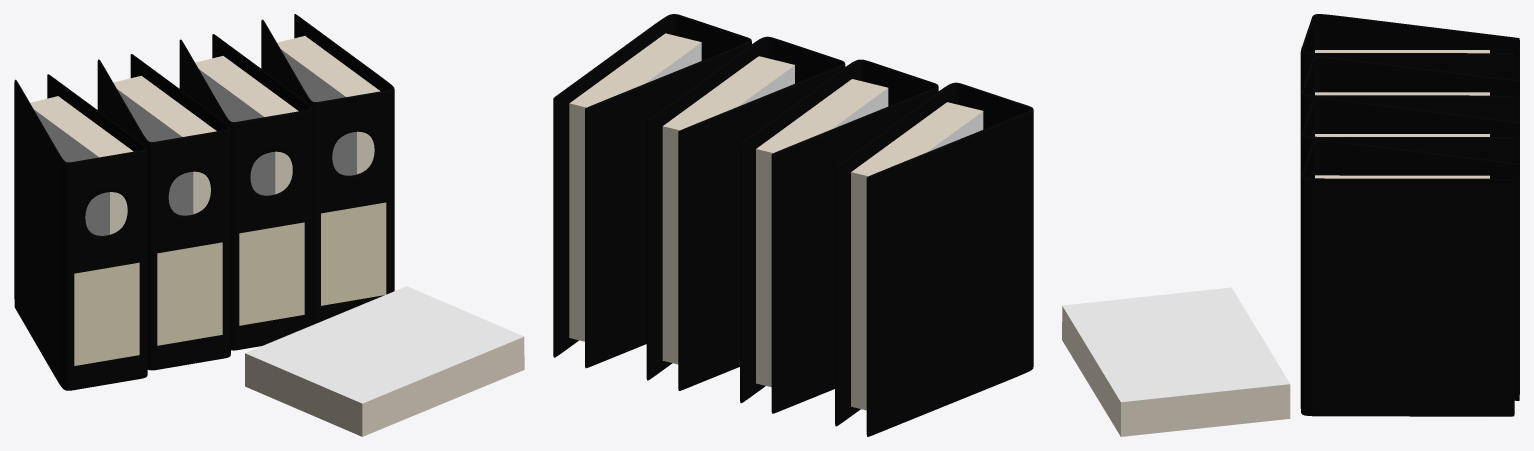
File: Folders.fbx
3 renders of one model, left to right at view 1: azimuth 30°, elevation 25°; view 2: azimuth 150°, elevation 25°; view 3: azimuth 270°, elevation 25°, orthographic. The views are drawn at different scales.
Visible parts, largest first — view 1: folder.003, papers.004, folder, folder.001, folder.002, papers.002, papers.003, papers.001, papers; view 2: folder.003, folder, folder.001, folder.002, papers.001, papers.003, papers, papers.002; view 3: folder.002, papers.004, folder, folder.003, folder.001, papers.002, papers, papers.003, papers.001.
Part boxes in pixels (x1=…): folder.003: x1=14, y1=74, x2=147, y2=390; papers.004: x1=245, y1=286, x2=524, y2=436; folder: x1=97, y1=54, x2=230, y2=370; folder.001: x1=179, y1=34, x2=312, y2=350; folder.002: x1=261, y1=14, x2=394, y2=324; papers.002: x1=277, y1=36, x2=380, y2=175; papers.003: x1=30, y1=96, x2=133, y2=235; papers.001: x1=195, y1=56, x2=298, y2=195; papers: x1=113, y1=75, x2=216, y2=215; folder.003: x1=835, y1=82, x2=1033, y2=436; folder: x1=740, y1=59, x2=938, y2=413; folder.001: x1=646, y1=36, x2=845, y2=390; folder.002: x1=553, y1=14, x2=751, y2=368; papers.001: x1=662, y1=56, x2=794, y2=364; papers.003: x1=851, y1=102, x2=983, y2=410; papers: x1=756, y1=79, x2=888, y2=387; papers.002: x1=569, y1=33, x2=701, y2=341; folder.002: x1=1300, y1=139, x2=1519, y2=416; papers.004: x1=1062, y1=287, x2=1290, y2=436; folder: x1=1300, y1=56, x2=1519, y2=135; folder.003: x1=1300, y1=14, x2=1519, y2=93; folder.001: x1=1300, y1=98, x2=1519, y2=176; papers.002: x1=1315, y1=175, x2=1489, y2=178; papers: x1=1315, y1=92, x2=1489, y2=95; papers.003: x1=1315, y1=50, x2=1489, y2=53; papers.001: x1=1315, y1=134, x2=1489, y2=136.
Size of the model in its own units: 80.54 by 47.96 by 83.73.
